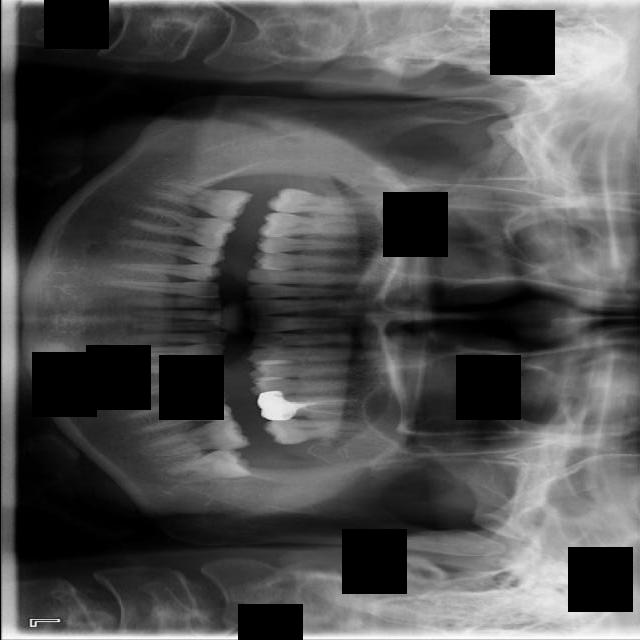52: (254, 385, 296, 427)
73: (287, 393, 360, 418), (36, 603, 50, 609)
BioHorizons Implant: (262, 418, 370, 445)
Biomet 3i Implant: (162, 444, 251, 488)
Blue Sky Bio Implant: (141, 416, 250, 459)
Caries: (265, 187, 377, 216)
Implant: (149, 178, 253, 224)
